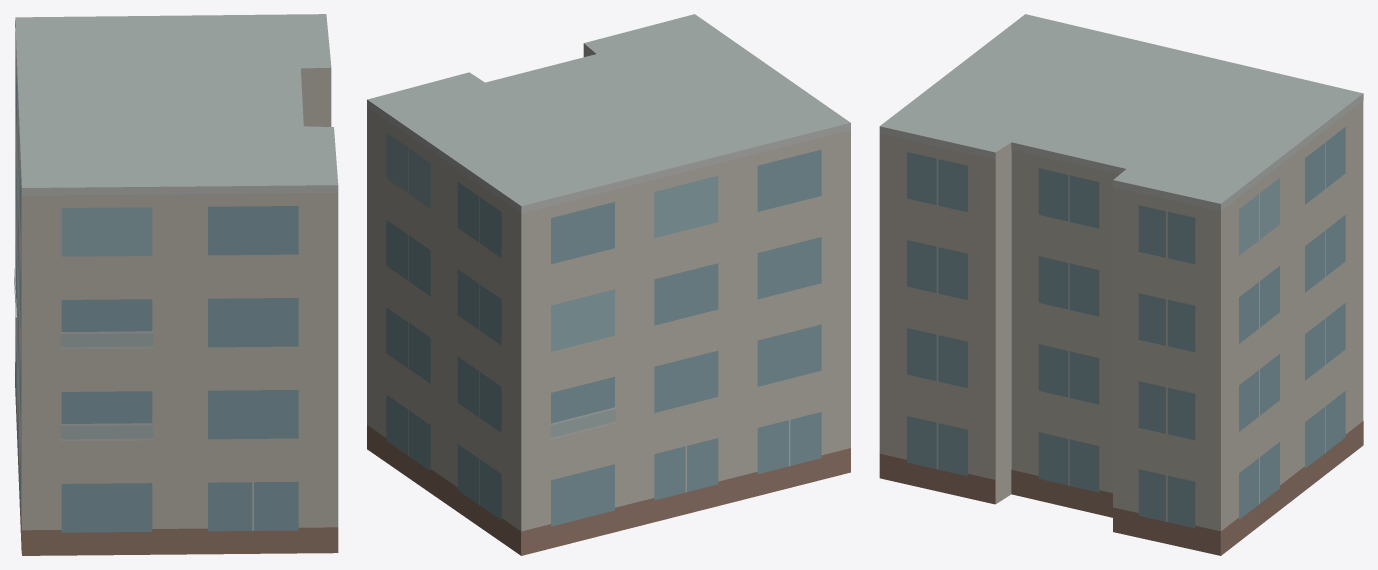
The model's file is survey-upis-32694919.glb.
3 renders of one model, left to right at view 1: azimuth 30°, elevation 25°; view 2: azimuth 150°, elevation 25°; view 3: azimuth 270°, elevation 25°, orthographic. The views are drawn at different scales.
Visible parts, largest first — view 1: survey-upis-32694919.tmp; view 2: survey-upis-32694919.tmp; view 3: survey-upis-32694919.tmp.
Boxes of the visible parts, box(x1,y1,x2,y2) form: survey-upis-32694919.tmp: box(14, 14, 338, 555); survey-upis-32694919.tmp: box(367, 14, 850, 555); survey-upis-32694919.tmp: box(879, 14, 1363, 555).
Bounding box in the file's own units: 13.78 × 11.9 × 14.83.
